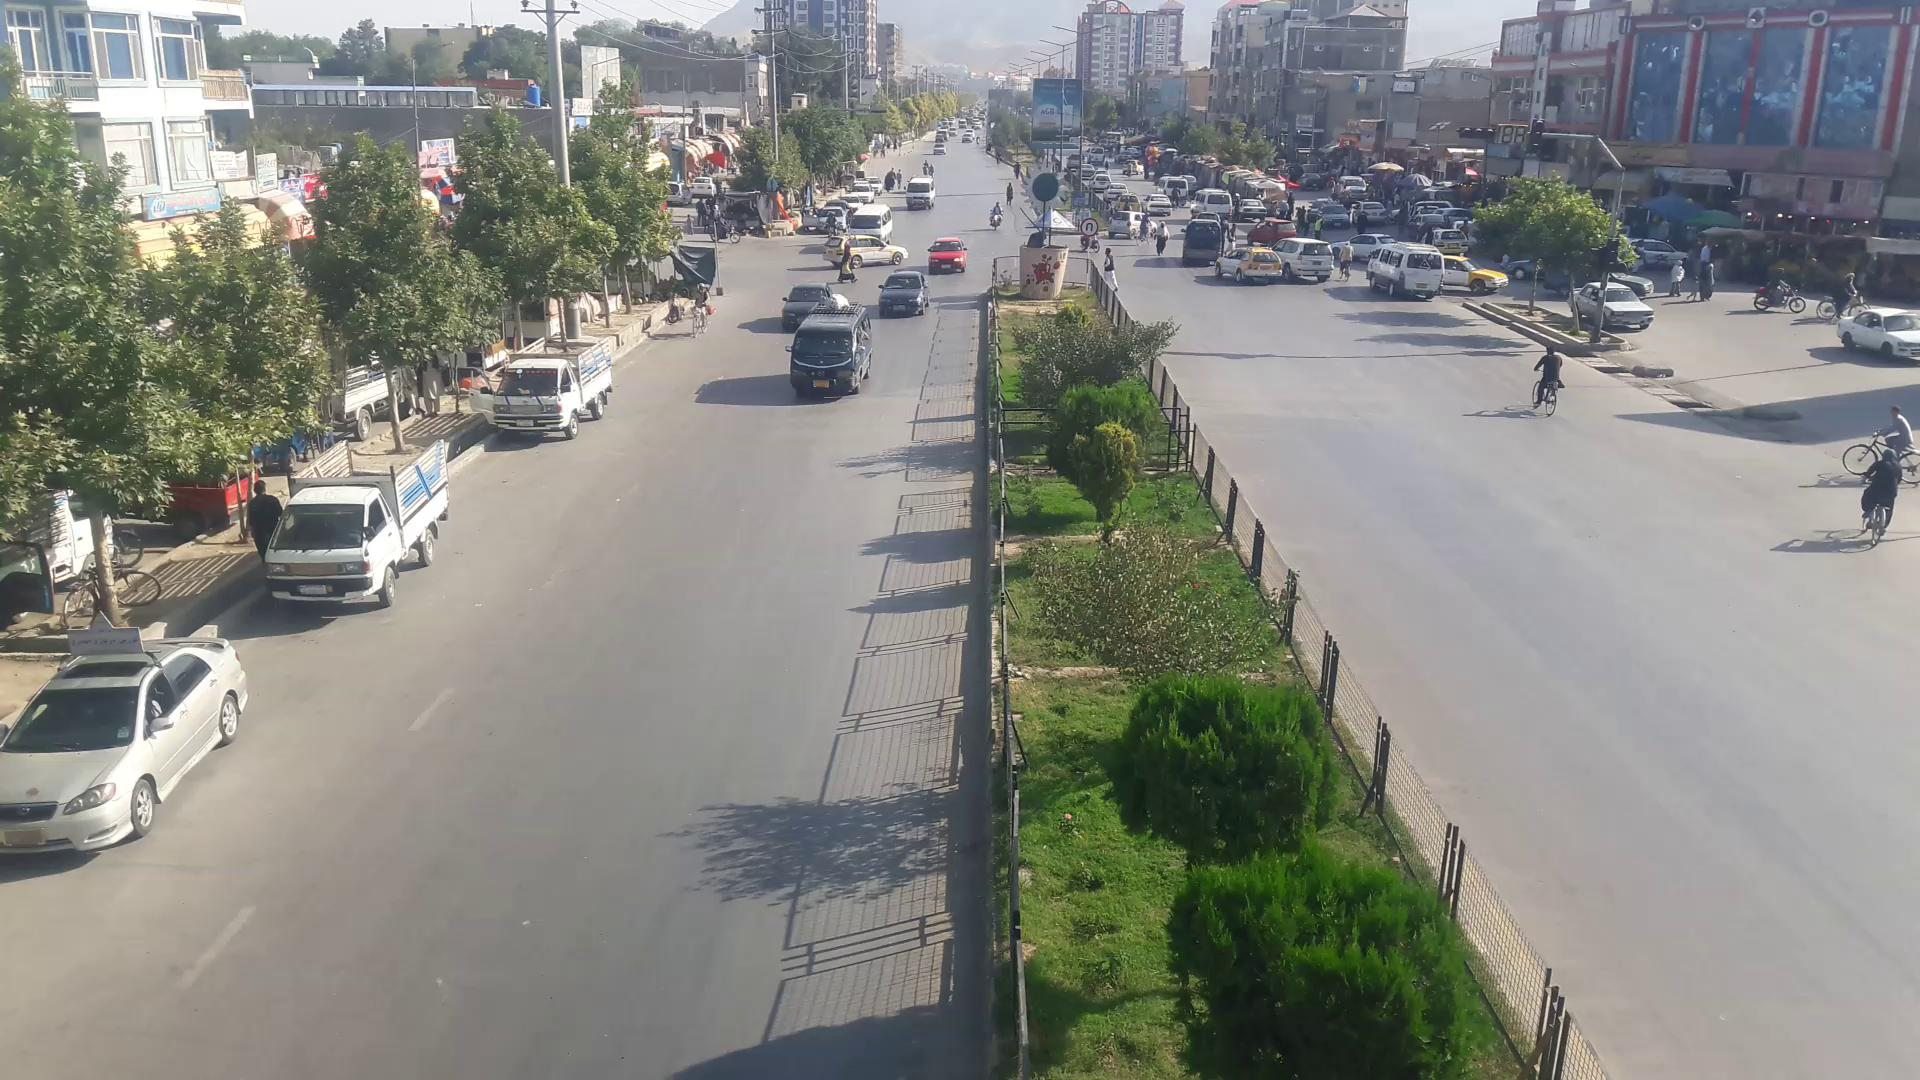bike: (9, 630, 248, 849), (987, 201, 1004, 233)
bus: (1367, 244, 1444, 297), (850, 205, 892, 238), (906, 178, 936, 212)
car: (787, 318, 867, 396), (1572, 287, 1660, 338), (1840, 306, 1916, 360), (823, 235, 909, 265), (1217, 247, 1285, 284), (782, 286, 849, 322), (877, 271, 928, 316), (1286, 245, 1341, 283), (923, 236, 968, 273)
truck: (274, 443, 451, 599), (479, 356, 602, 431)
